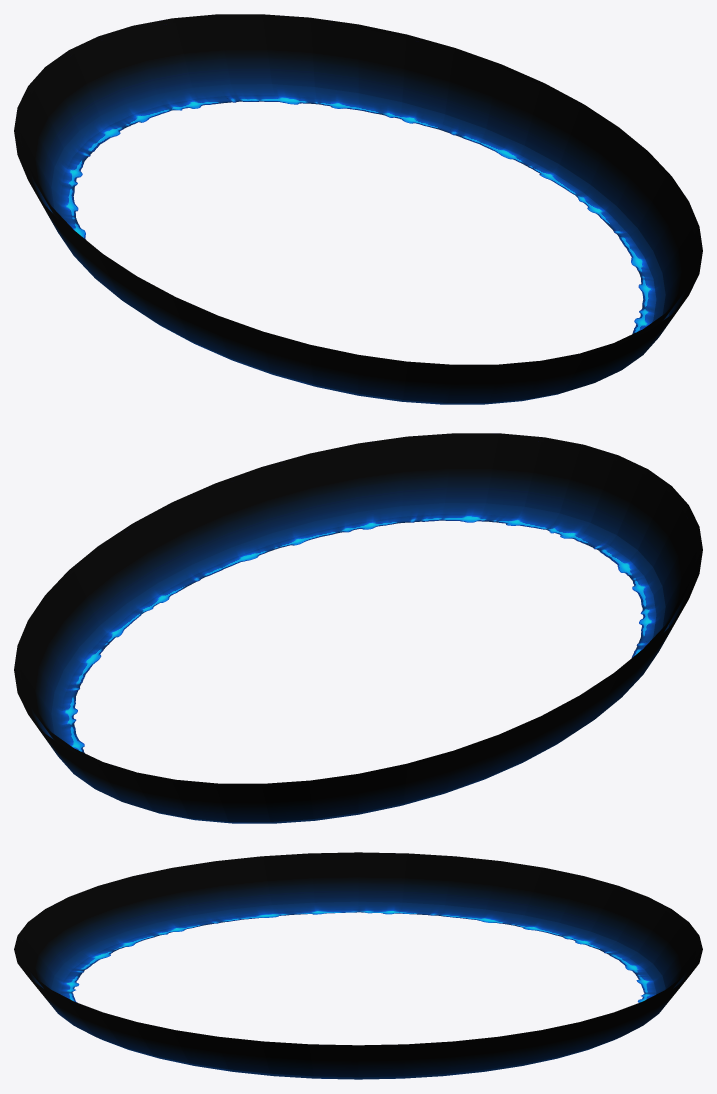
Rendered from p_charge_slow_water.fbx.
The picture shows the model from 3 angles, top to bottom: view 1: azimuth 30°, elevation 25°; view 2: azimuth 150°, elevation 25°; view 3: azimuth 270°, elevation 25°; orthographic projection. The views are drawn at different scales.
Visible parts, largest first — view 1: ring_inner, ring_outer; view 2: ring_inner, ring_outer; view 3: ring_inner, ring_outer.
Boxes of the visible parts, x1,y1,x2,y2 form: ring_inner: (20,18,696,367); ring_outer: (14,14,702,404); ring_inner: (20,437,696,786); ring_outer: (14,433,702,823); ring_inner: (20,855,696,1046); ring_outer: (14,852,702,1079).
Size of the model in its own units: 2.23 by 0.2385 by 3.34.
Materials: 1 (1 with a texture image).
